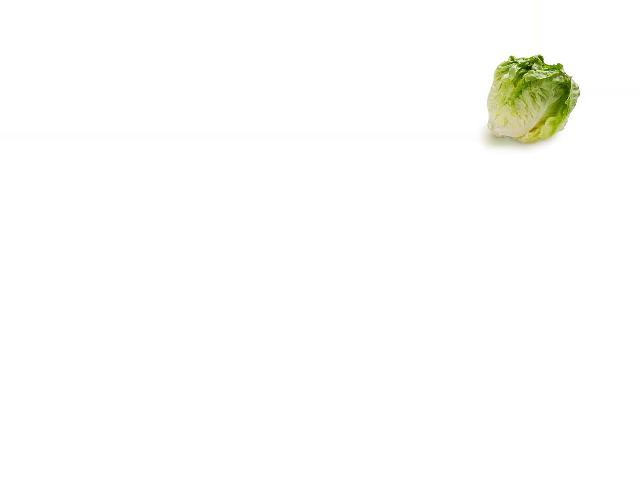lettuce: (481, 51, 584, 141)
